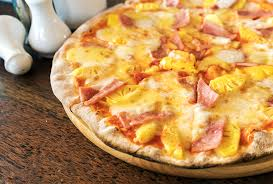pizza: (53, 2, 273, 161)
